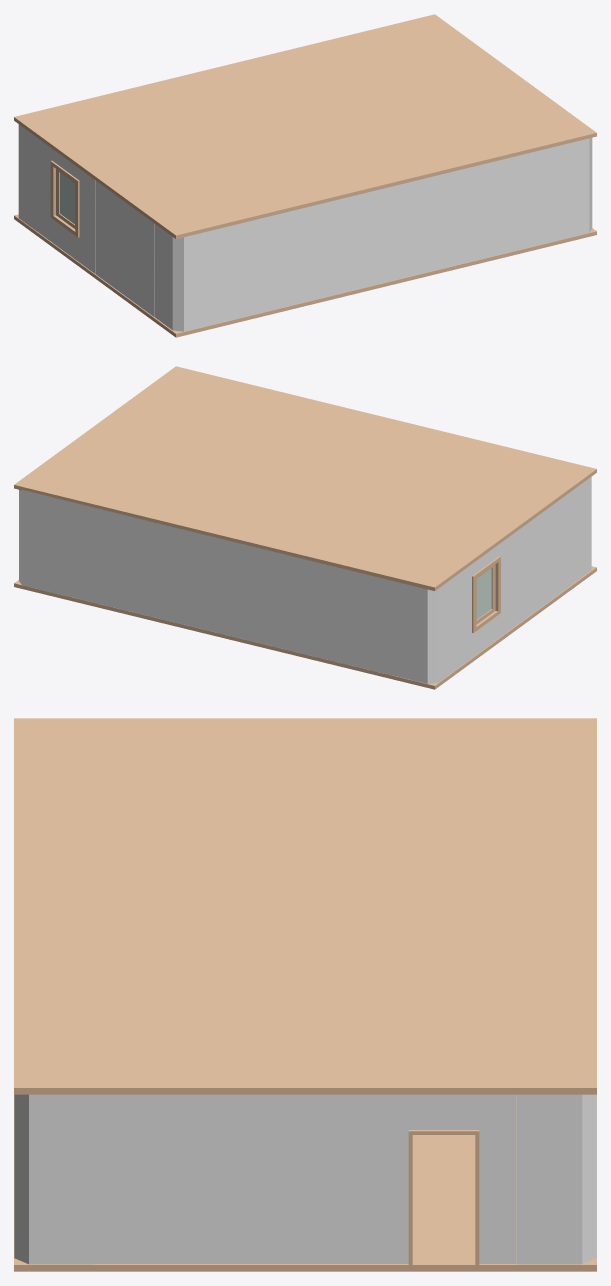
Rendered from room-with-roof.glb.
The picture shows the model from 3 angles, top to bottom: view 1: azimuth 30°, elevation 25°; view 2: azimuth 150°, elevation 25°; view 3: azimuth 270°, elevation 25°; orthographic projection. The views are drawn at different scales.
Visible parts, largest first — view 1: roof, Walls, floorHalf; view 2: roof, Walls, floorHalf; view 3: roof, Walls, floorHalf.
Boxes of the visible parts, <box> form: roof: <box>14,14,596,238</box>; Walls: <box>18,124,592,331</box>; floorHalf: <box>14,214,596,337</box>; roof: <box>14,366,596,590</box>; Walls: <box>19,477,591,683</box>; floorHalf: <box>14,566,596,689</box>; roof: <box>14,718,596,1094</box>; Walls: <box>14,1094,596,1265</box>; floorHalf: <box>14,1095,596,1271</box>.
Bounding box in the file's own units: 6.02 × 1.39 × 4.
